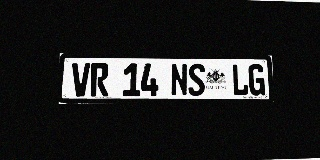1: (123, 63, 140, 96)
4: (141, 63, 158, 96)
G: (248, 64, 265, 96)
L: (232, 64, 248, 96)
N: (171, 63, 188, 96)
R: (90, 63, 109, 96)
S: (188, 64, 205, 96)
V: (71, 63, 90, 96)
